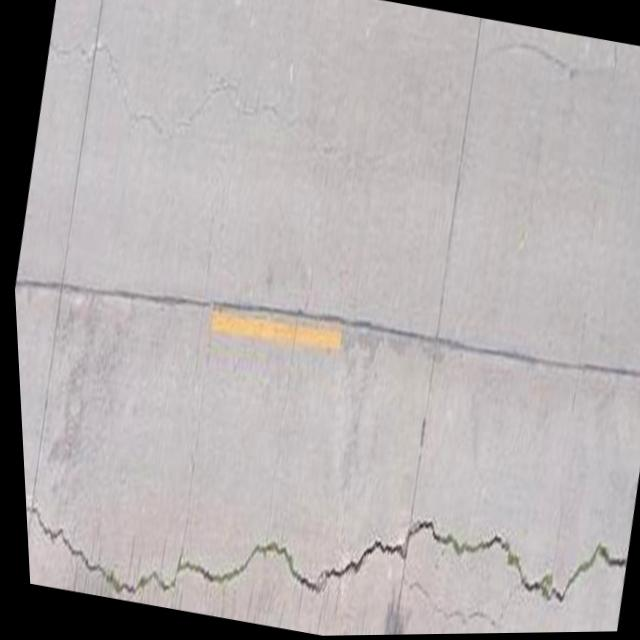Crack: (17, 406, 630, 640)
